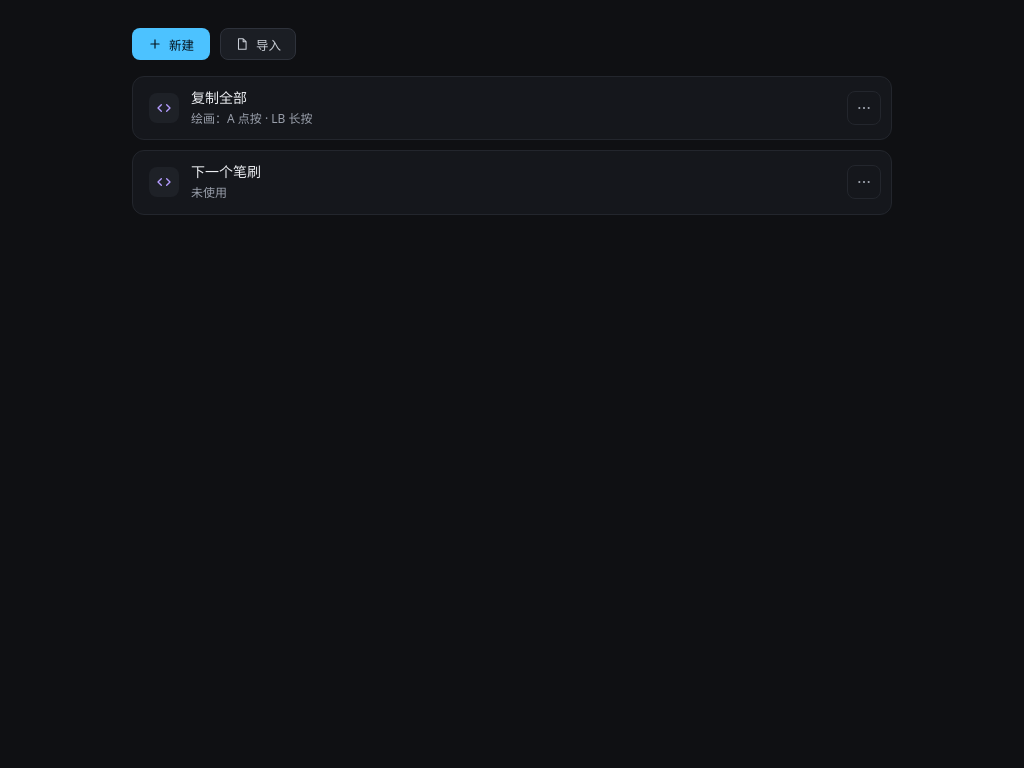
it: scripts page: actions › says when no editor opens and keeps a failed name in the dialog
Click the button "新建" at (171, 44), box x1=132 y1=28 x2=210 y2=60
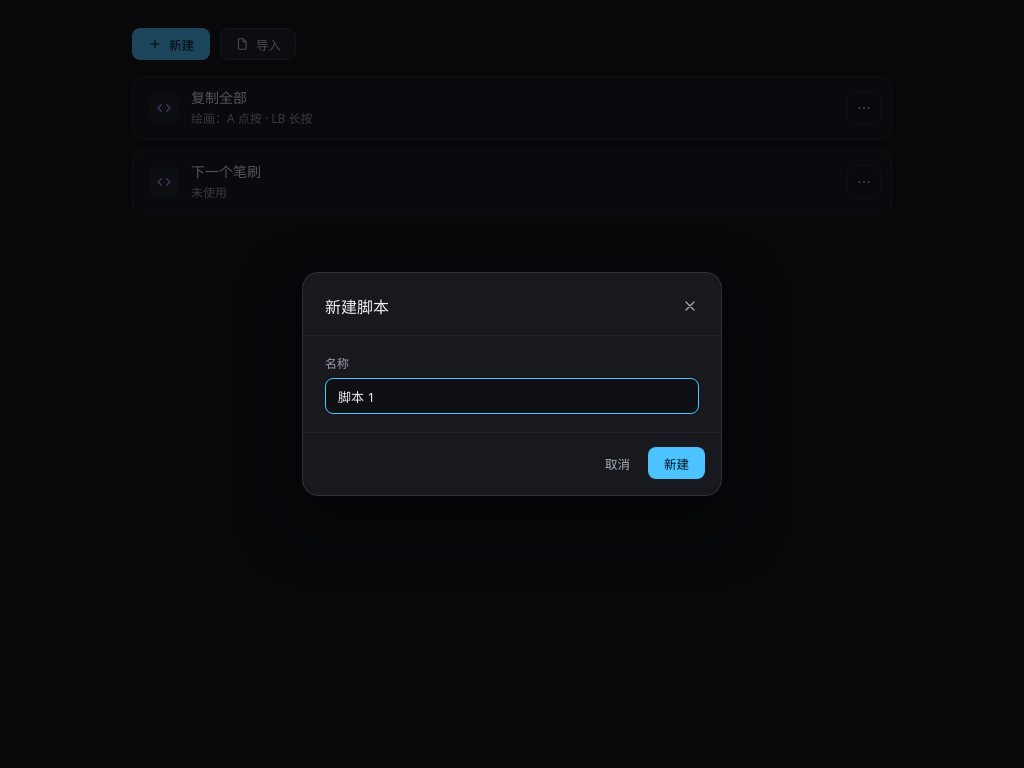
Click the button "新建" at (676, 463), box x1=648 y1=447 x2=705 y2=479
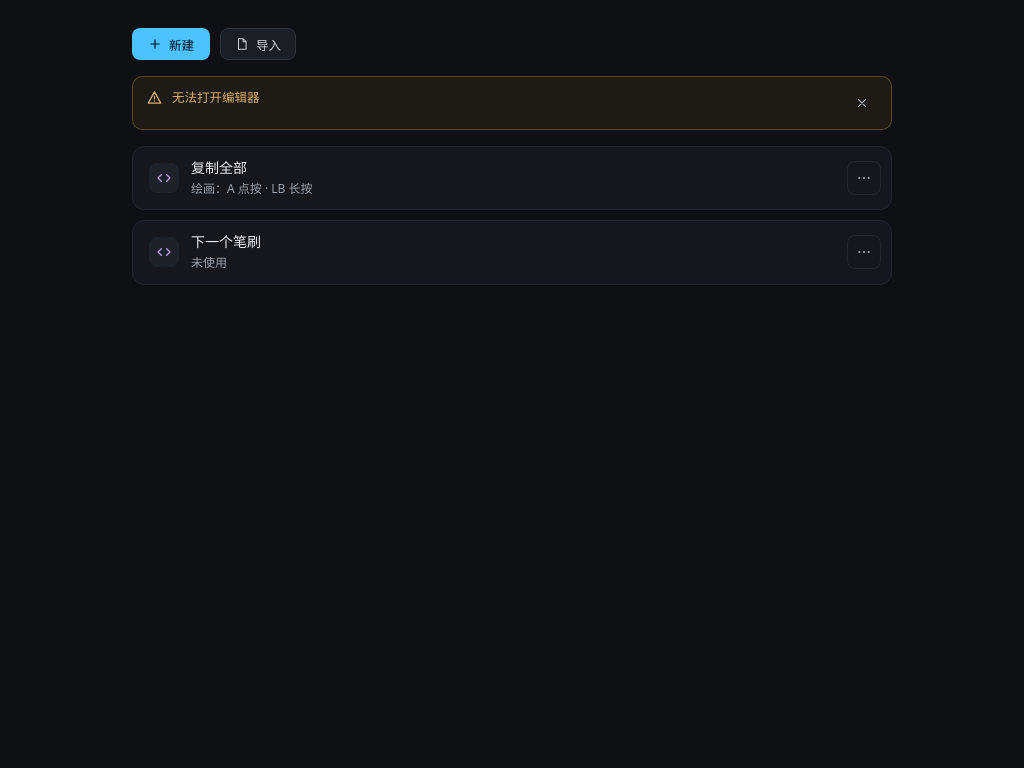
Expected: the message with test id "script-outcome" reads "无法打开编辑器", x1=172 y1=89 x2=260 y2=106
Click the button "新建" at (171, 44), box x1=132 y1=28 x2=210 y2=60
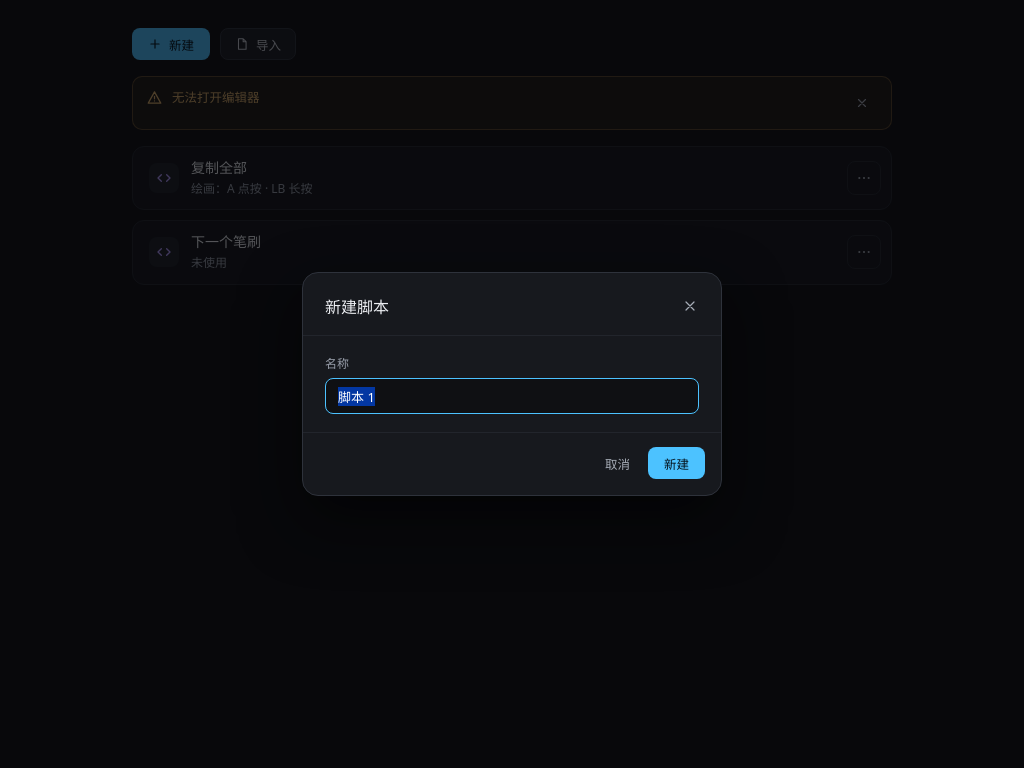
Click the button "新建" at (676, 463), box x1=648 y1=447 x2=705 y2=479
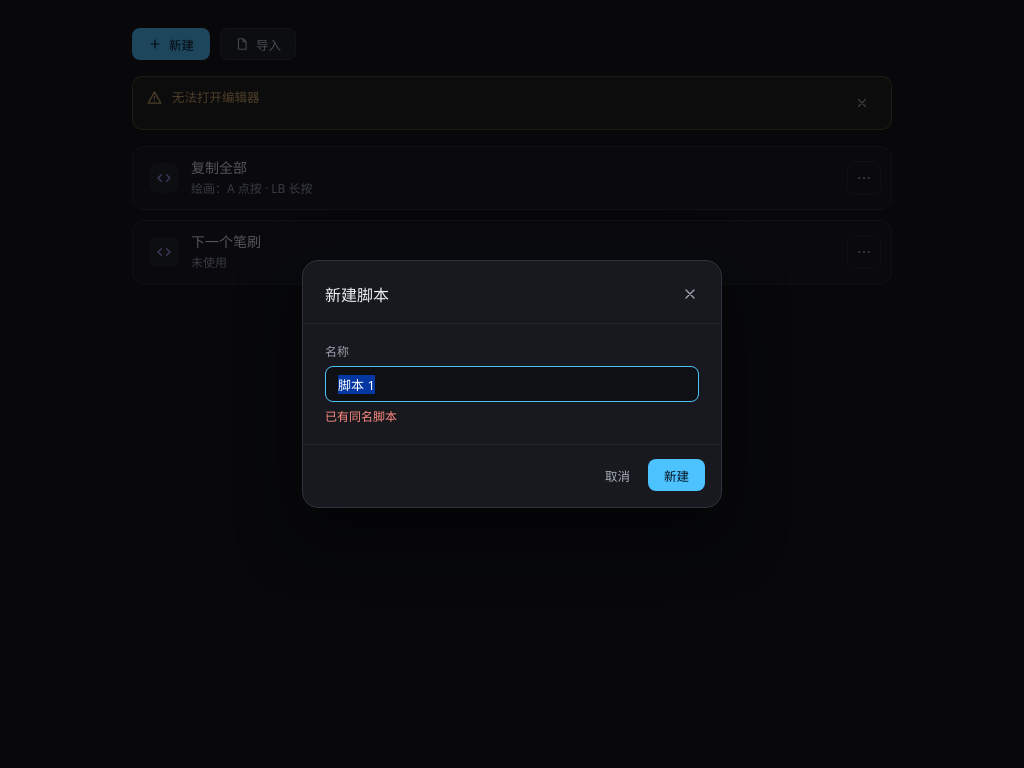
Expected: the message reads "已有同名脚本", x1=325 y1=408 x2=397 y2=425
Replace the text in the field labelled "名称" with "脚本 9" at (512, 384), box x1=325 y1=366 x2=699 y2=402
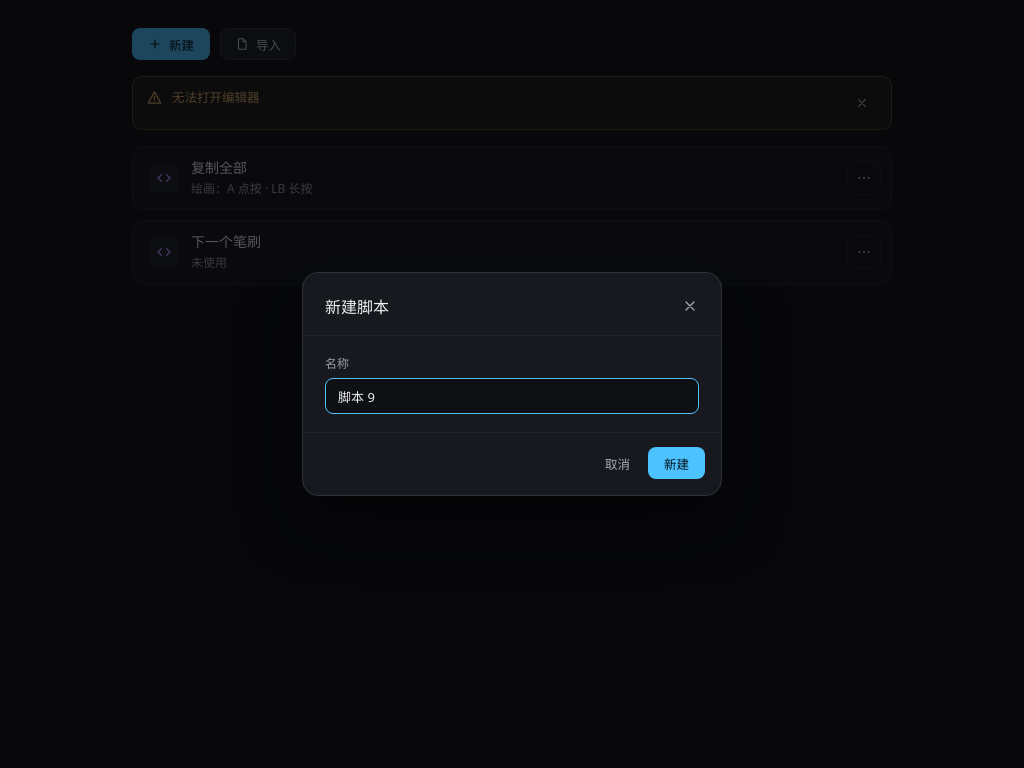
Expected: the message "已有同名脚本" is gone
Replace the text in the field labelled "名称" with "脚本 1" at (512, 396), box x1=325 y1=378 x2=699 y2=414
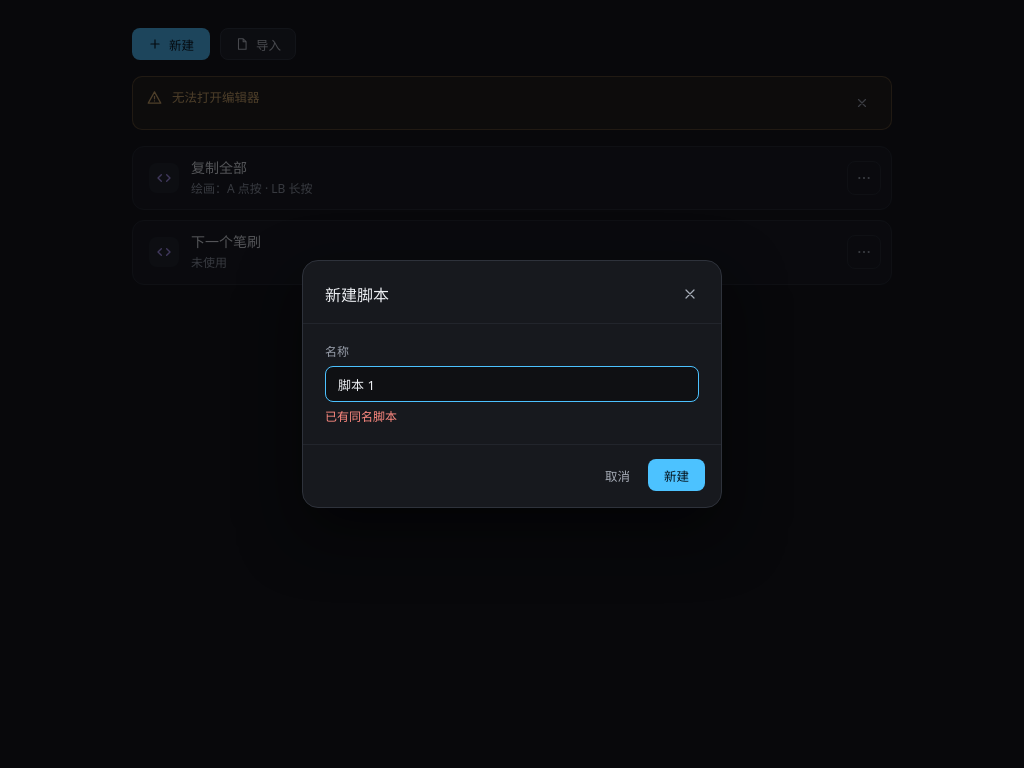
Expected: the message reads "已有同名脚本", x1=325 y1=408 x2=397 y2=425
